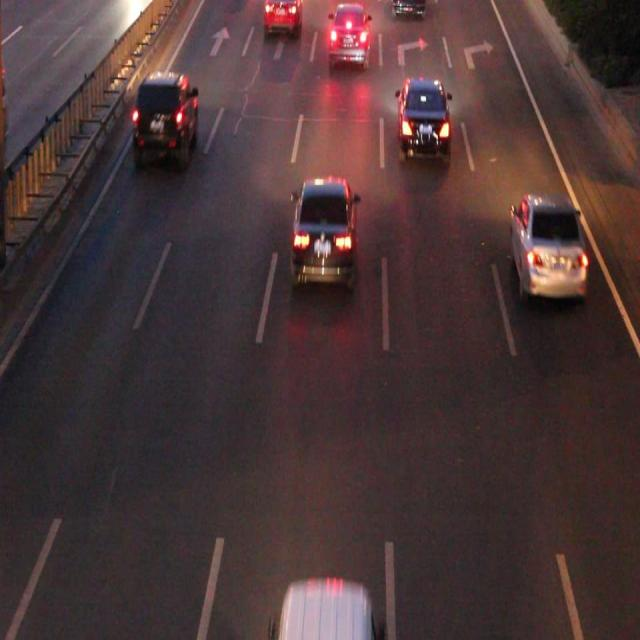car: (510, 198, 584, 294), (292, 180, 354, 282), (136, 78, 197, 160), (398, 80, 448, 158), (330, 8, 368, 64), (264, 1, 301, 31), (392, 1, 424, 18)
truck: (282, 580, 368, 640)
